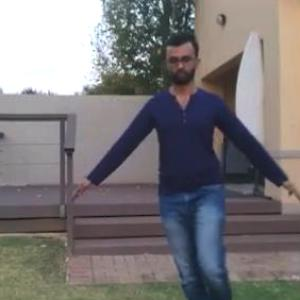land: (105, 45, 288, 299)
